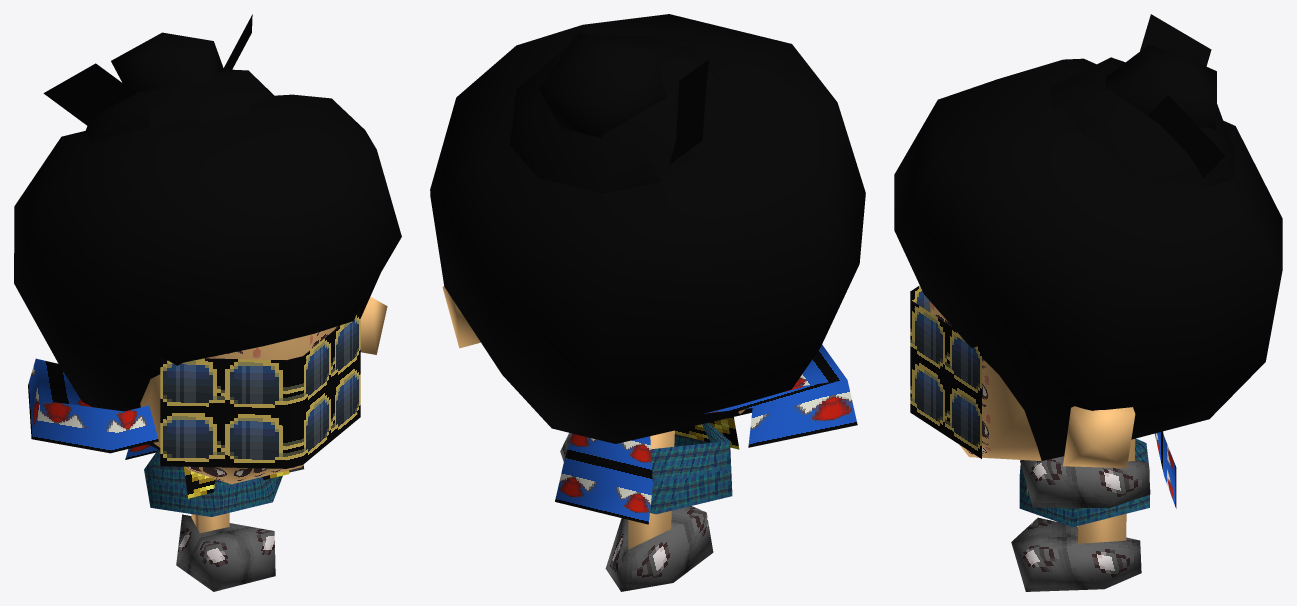
3 views of the same model, side by side, from view 1: azimuth 30°, elevation 25°; view 2: azimuth 150°, elevation 25°; view 3: azimuth 270°, elevation 25° (orthographic). The views are drawn at different scales.
Visible parts, largest first — view 1: pmd42_00_04; view 2: pmd42_00_04; view 3: pmd42_00_04.
Boxes of the visible parts, <box> form: pmd42_00_04: <box>14,14,401,591</box>; pmd42_00_04: <box>430,14,865,591</box>; pmd42_00_04: <box>894,14,1282,591</box>.
Bounding box in the file's own units: 1.18 × 1.56 × 1.05.
8 materials, 8 textured.
